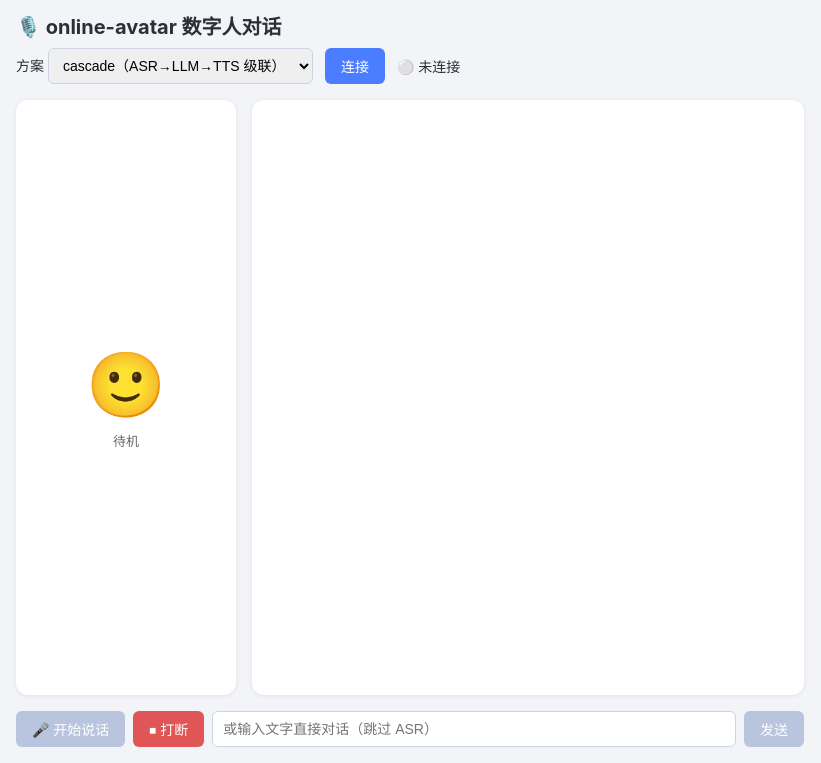
Test: App.vue 冒烟 › 连接后可发送文字并渲染回复
The image size is (821, 763).
Click the button "连接" at (355, 66), box x1=325 y1=48 x2=385 y2=84
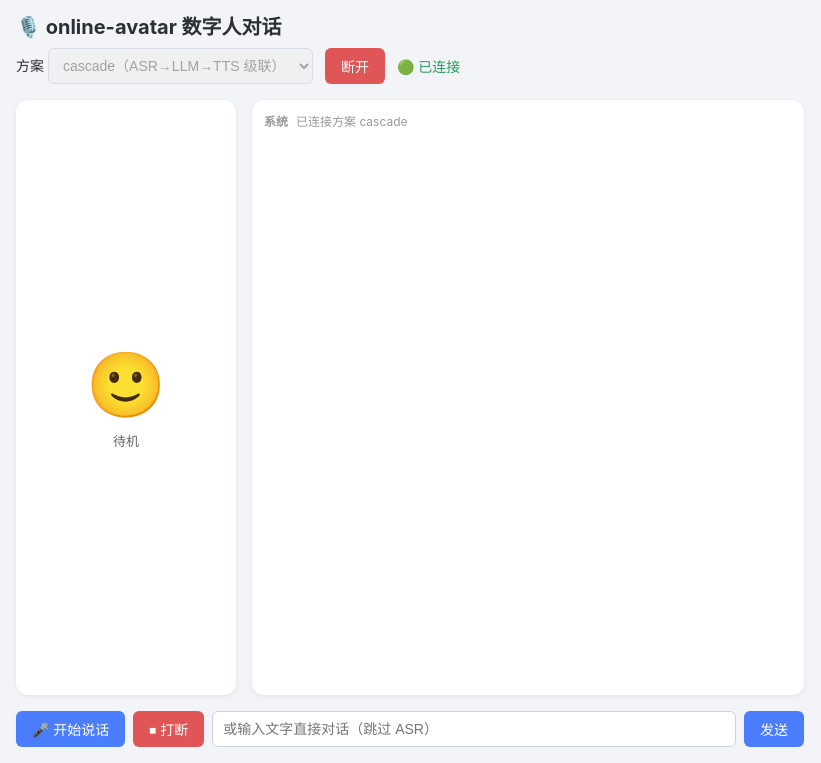
Type "你好" into the field with placeholder "或输入文字直接对话（跳过 ASR）" at (474, 729), box x1=212 y1=711 x2=736 y2=747
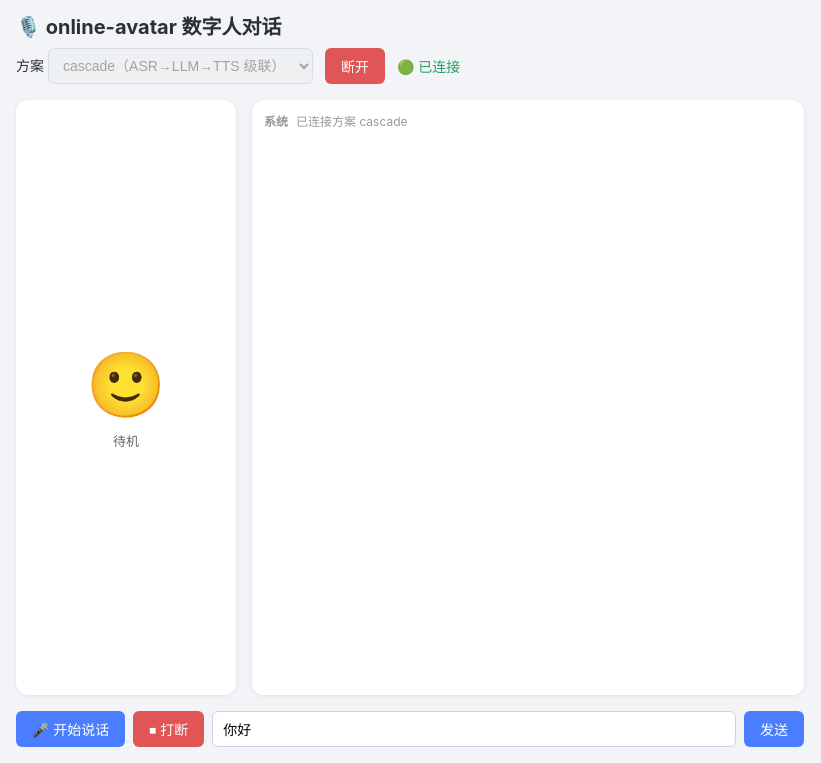
Click the button "发送" at (774, 729), box x1=744 y1=711 x2=804 y2=747
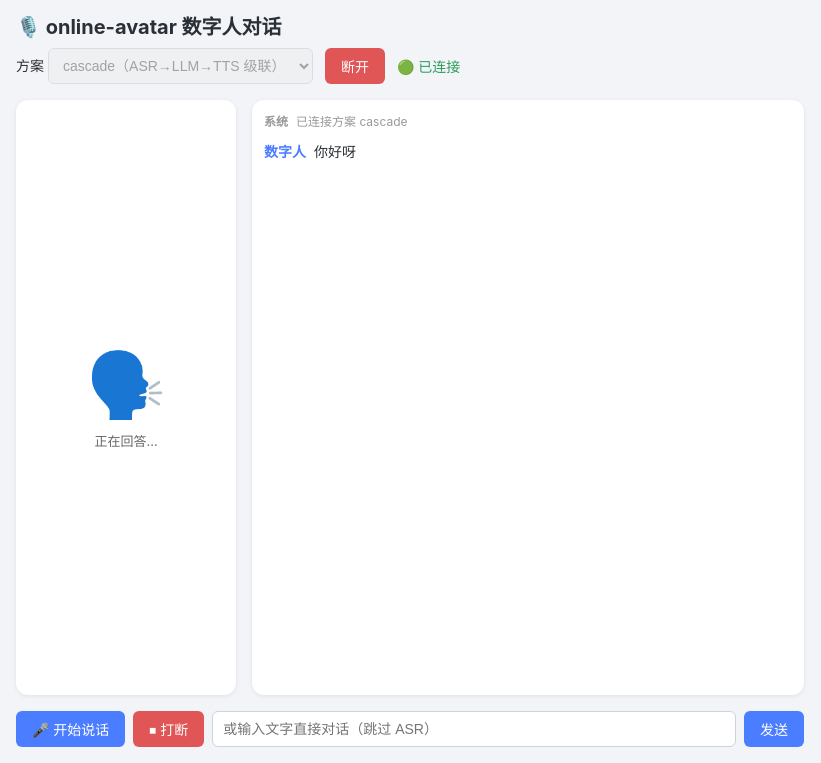
Expected: the text "你好呀" is shown, x1=314 y1=141 x2=356 y2=164
Expected: the text "正在回答" is shown, x1=94 y1=433 x2=158 y2=449
